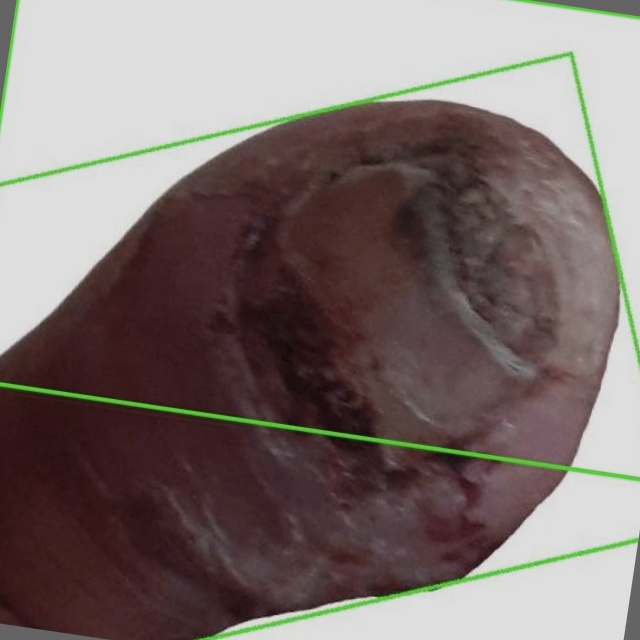Contact Dermatitis: (0, 54, 639, 620), (0, 0, 639, 479)
